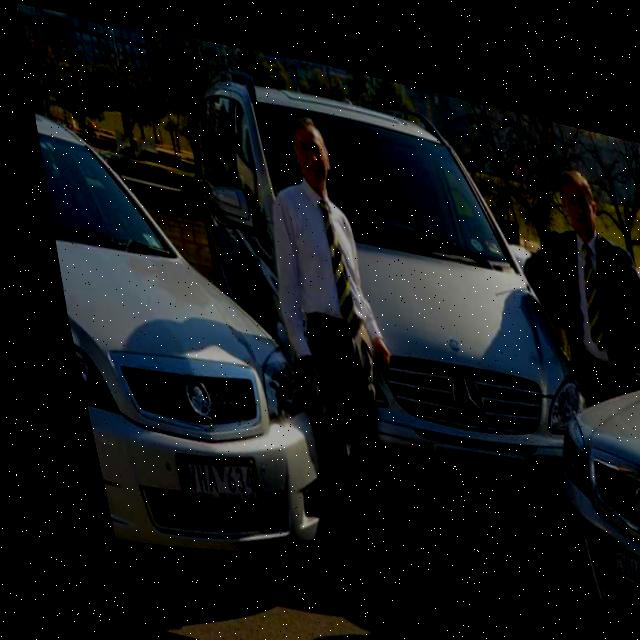license_plate: (428, 428, 498, 471)
